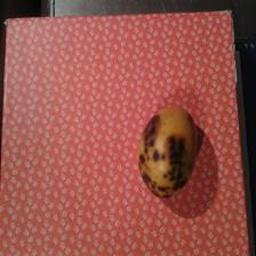Mango Rotten: (133, 98, 201, 206)
